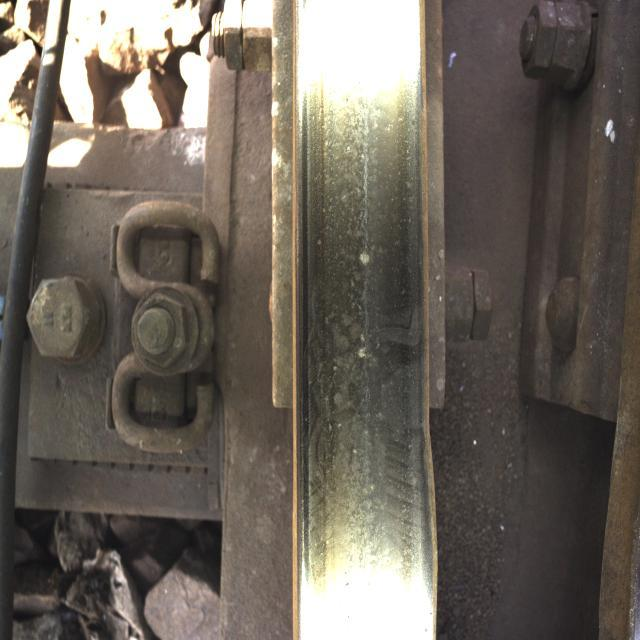scar: (301, 94, 409, 585)
